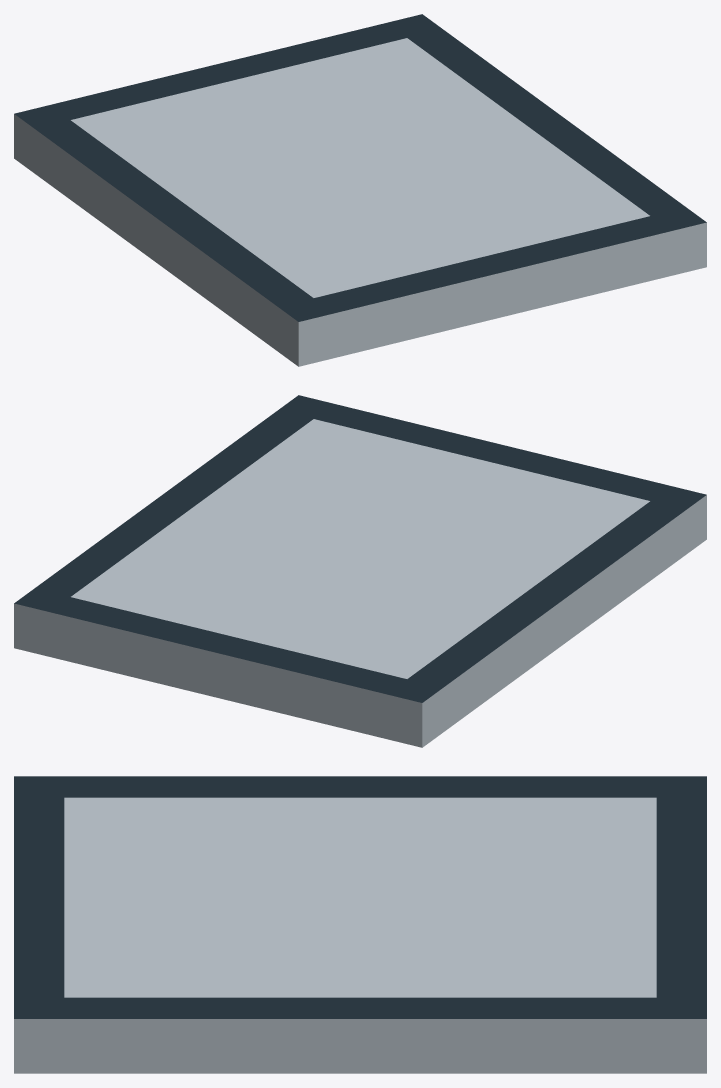
The model's file is tile.fbx.
3 views of the same model, one above another, from view 1: azimuth 30°, elevation 25°; view 2: azimuth 150°, elevation 25°; view 3: azimuth 270°, elevation 25° (orthographic). The views are drawn at different scales.
Visible parts, largest first — view 1: Cube; view 2: Cube; view 3: Cube.
Part boxes in pixels (<box>): Cube: <box>14,14,706,366</box>; Cube: <box>14,395,706,747</box>; Cube: <box>14,776,706,1073</box>.
Size of the model in its own units: 819 by 85.77 by 988.
